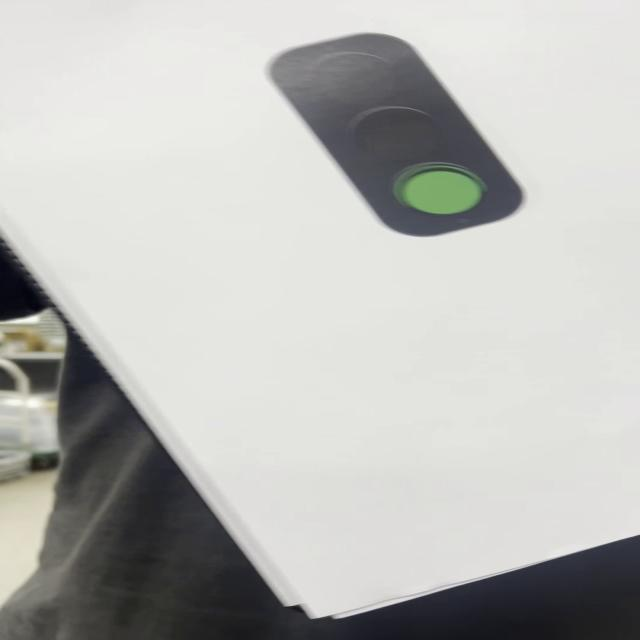green: (266, 33, 524, 240)
